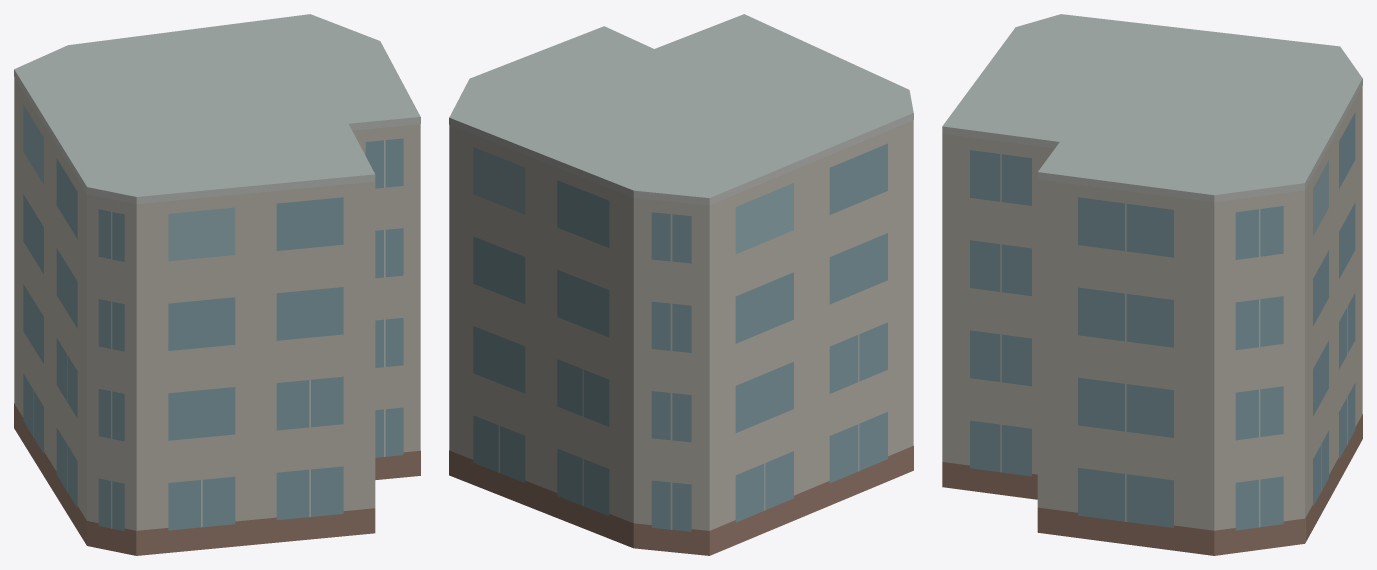
Rendered from residential-22674923-0e4b-4e66-95c7-5d6f8c7f75d1.glb.
The picture shows the model from 3 angles, left to right: view 1: azimuth 30°, elevation 25°; view 2: azimuth 150°, elevation 25°; view 3: azimuth 270°, elevation 25°; orthographic projection.
Parts seen in each view (by area): view 1: residential-22674923-0e4b-4e66-95c7-5d6f8c7f75d1.tmp; view 2: residential-22674923-0e4b-4e66-95c7-5d6f8c7f75d1.tmp; view 3: residential-22674923-0e4b-4e66-95c7-5d6f8c7f75d1.tmp.
Part boxes in pixels (bbox=[...]): residential-22674923-0e4b-4e66-95c7-5d6f8c7f75d1.tmp: bbox=[14, 14, 420, 555]; residential-22674923-0e4b-4e66-95c7-5d6f8c7f75d1.tmp: bbox=[449, 14, 913, 555]; residential-22674923-0e4b-4e66-95c7-5d6f8c7f75d1.tmp: bbox=[942, 14, 1362, 555].
Size of the model in its own units: 13.15 by 12.2 by 12.9.
